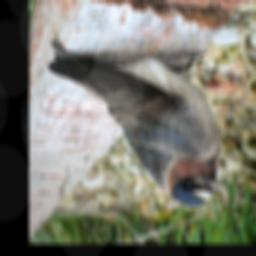Swallow: (45, 37, 228, 211)
